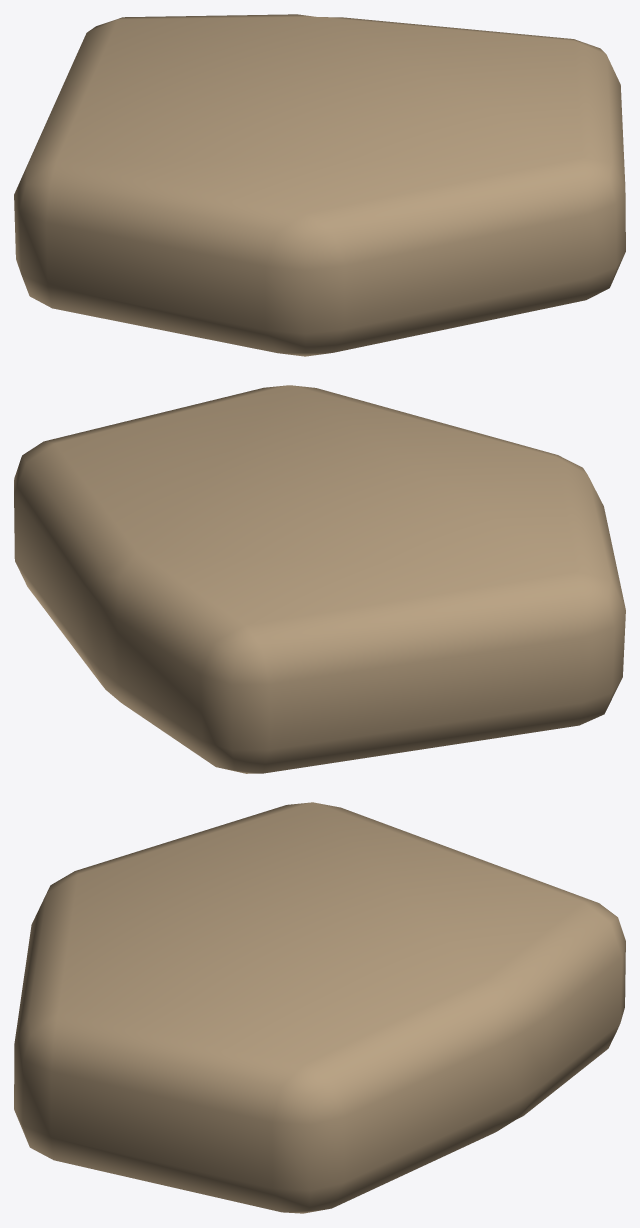
Rendered from RUBBEL_SCHERBE_1.glb.
3 renders of one model, top to bottom at view 1: azimuth 30°, elevation 25°; view 2: azimuth 150°, elevation 25°; view 3: azimuth 270°, elevation 25°, orthographic. The views are drawn at different scales.
Visible parts, largest first — view 1: RUBBEL_SCHERBE_1; view 2: RUBBEL_SCHERBE_1; view 3: RUBBEL_SCHERBE_1.
Boxes of the visible parts, box(x1,y1,x2,y2) form: RUBBEL_SCHERBE_1: box(14, 14, 625, 356); RUBBEL_SCHERBE_1: box(14, 385, 625, 773); RUBBEL_SCHERBE_1: box(14, 802, 625, 1213).
Bounding box in the file's own units: 0.7725 × 0.186 × 0.6752.
